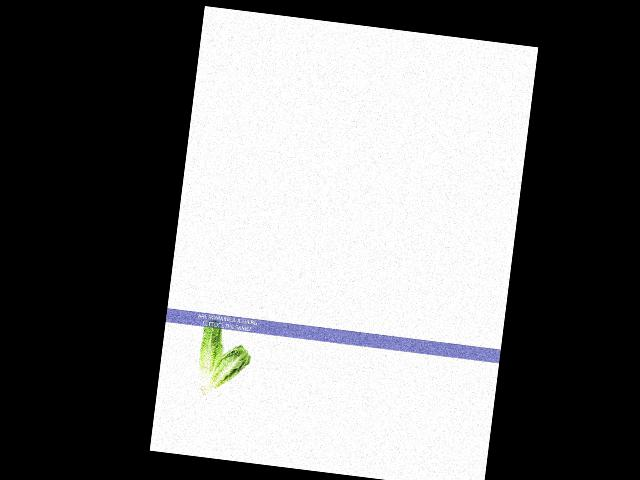lettuce: (197, 336, 251, 400)
